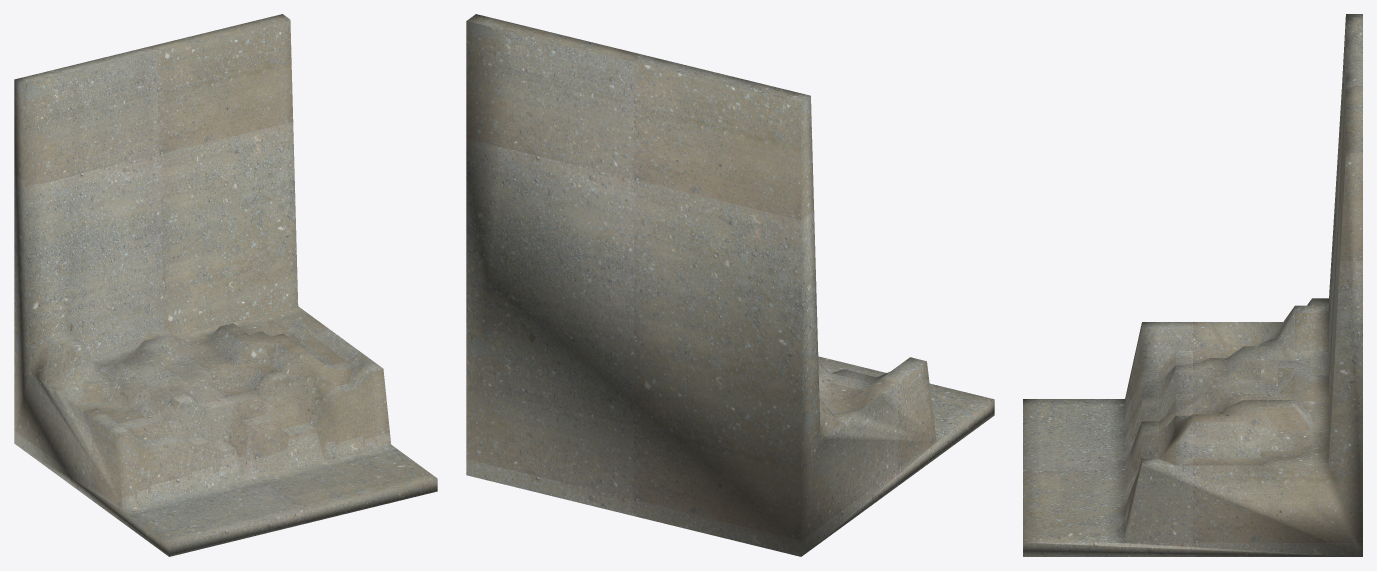
File: right3.fbx
3 renders of one model, left to right at view 1: azimuth 30°, elevation 25°; view 2: azimuth 150°, elevation 25°; view 3: azimuth 270°, elevation 25°, orthographic. The views are drawn at different scales.
Visible parts, largest first — view 1: Model; view 2: Model; view 3: Model.
Part boxes in pixels (bbox=[...]): Model: bbox=[14, 14, 437, 556]; Model: bbox=[466, 14, 994, 556]; Model: bbox=[1023, 14, 1362, 556].
Size of the model in its own units: 1000 by 1398 by 1000.
